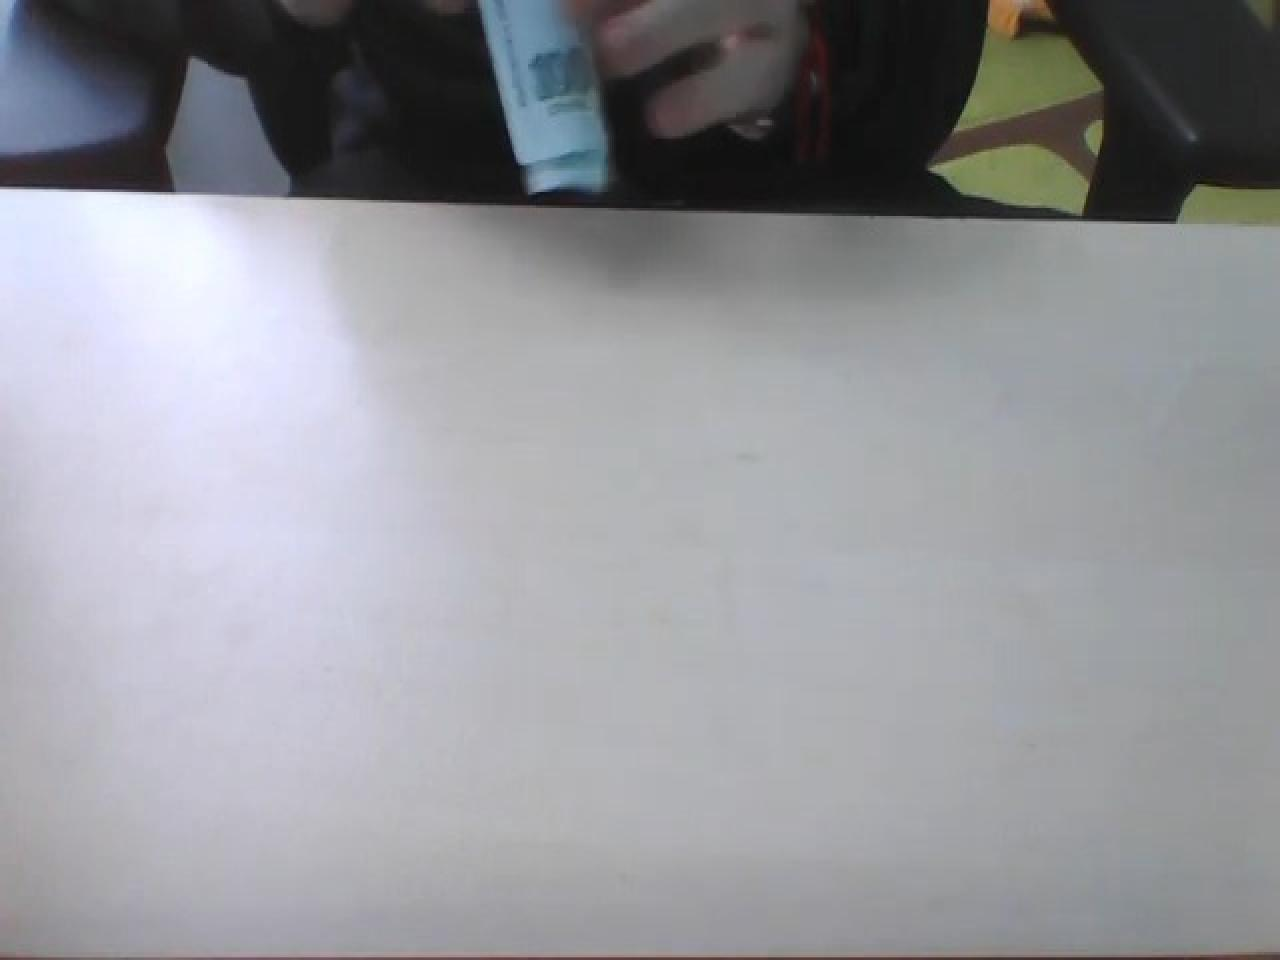100leva: (476, 0, 614, 197)
